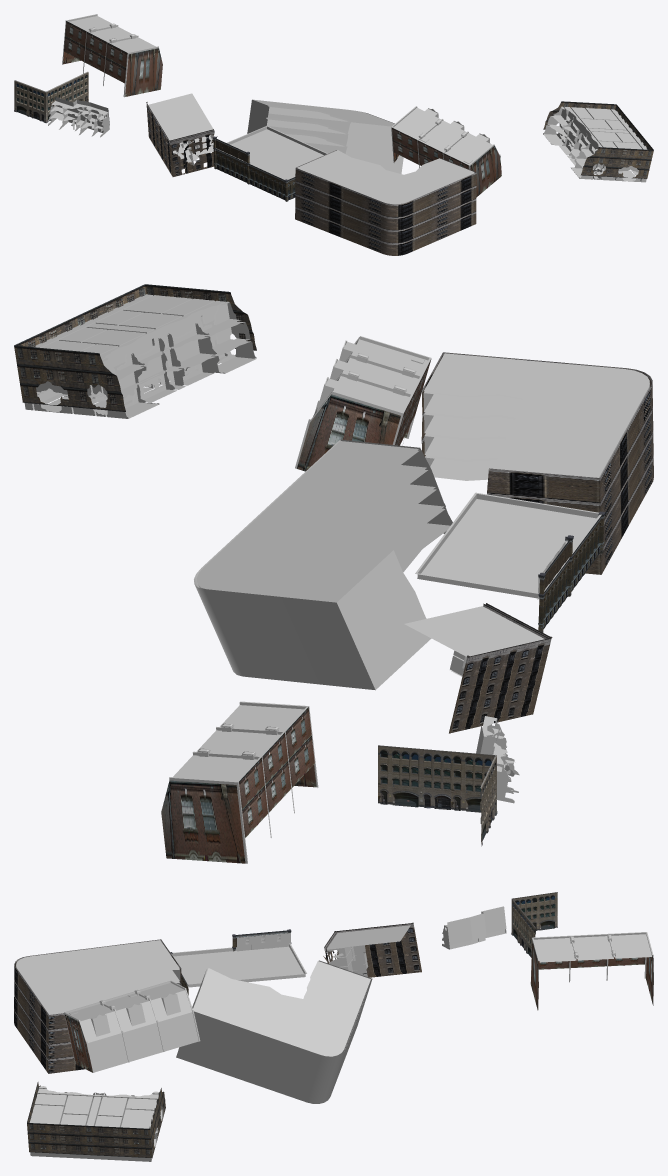
Rendered from Distant04.fbx.
3 views of the same model, one above another, from view 1: azimuth 30°, elevation 25°; view 2: azimuth 150°, elevation 25°; view 3: azimuth 270°, elevation 25° (orthographic). The views are drawn at different scales.
Visible parts, largest first — view 1: LODGroup_1_MainMesh_1_SubMesh_1, LODGroup_1_MainMesh_1_SubMesh_7, LODGroup_1_MainMesh_1_SubMesh_3, LODGroup_1_MainMesh_1_SubMesh_4, LODGroup_1_MainMesh_1_SubMesh_2, LODGroup_1_MainMesh_1_SubMesh_5; view 2: LODGroup_1_MainMesh_1_SubMesh_1, LODGroup_1_MainMesh_1_SubMesh_7, LODGroup_1_MainMesh_1_SubMesh_3, LODGroup_1_MainMesh_1_SubMesh_4, LODGroup_1_MainMesh_1_SubMesh_2, LODGroup_1_MainMesh_1_SubMesh_5; view 3: LODGroup_1_MainMesh_1_SubMesh_1, LODGroup_1_MainMesh_1_SubMesh_7, LODGroup_1_MainMesh_1_SubMesh_4, LODGroup_1_MainMesh_1_SubMesh_3, LODGroup_1_MainMesh_1_SubMesh_2.
Part boxes in pixels (<box>): LODGroup_1_MainMesh_1_SubMesh_1: <box>48,14,647,204</box>; LODGroup_1_MainMesh_1_SubMesh_7: <box>146,102,476,255</box>; LODGroup_1_MainMesh_1_SubMesh_3: <box>63,21,501,197</box>; LODGroup_1_MainMesh_1_SubMesh_4: <box>543,101,653,178</box>; LODGroup_1_MainMesh_1_SubMesh_2: <box>14,71,88,123</box>; LODGroup_1_MainMesh_1_SubMesh_5: <box>212,136,295,201</box>; LODGroup_1_MainMesh_1_SubMesh_1: <box>24,294,649,863</box>; LODGroup_1_MainMesh_1_SubMesh_7: <box>421,352,653,733</box>; LODGroup_1_MainMesh_1_SubMesh_3: <box>161,360,430,863</box>; LODGroup_1_MainMesh_1_SubMesh_4: <box>14,284,256,411</box>; LODGroup_1_MainMesh_1_SubMesh_2: <box>378,745,497,846</box>; LODGroup_1_MainMesh_1_SubMesh_5: <box>538,511,605,632</box>; LODGroup_1_MainMesh_1_SubMesh_1: <box>16,906,653,1161</box>; LODGroup_1_MainMesh_1_SubMesh_7: <box>14,922,421,1073</box>; LODGroup_1_MainMesh_1_SubMesh_4: <box>27,1082,165,1157</box>; LODGroup_1_MainMesh_1_SubMesh_3: <box>65,941,653,1072</box>; LODGroup_1_MainMesh_1_SubMesh_2: <box>511,892,557,957</box>.
Bounding box in the file's own units: 23064 × 5346 × 26085.
